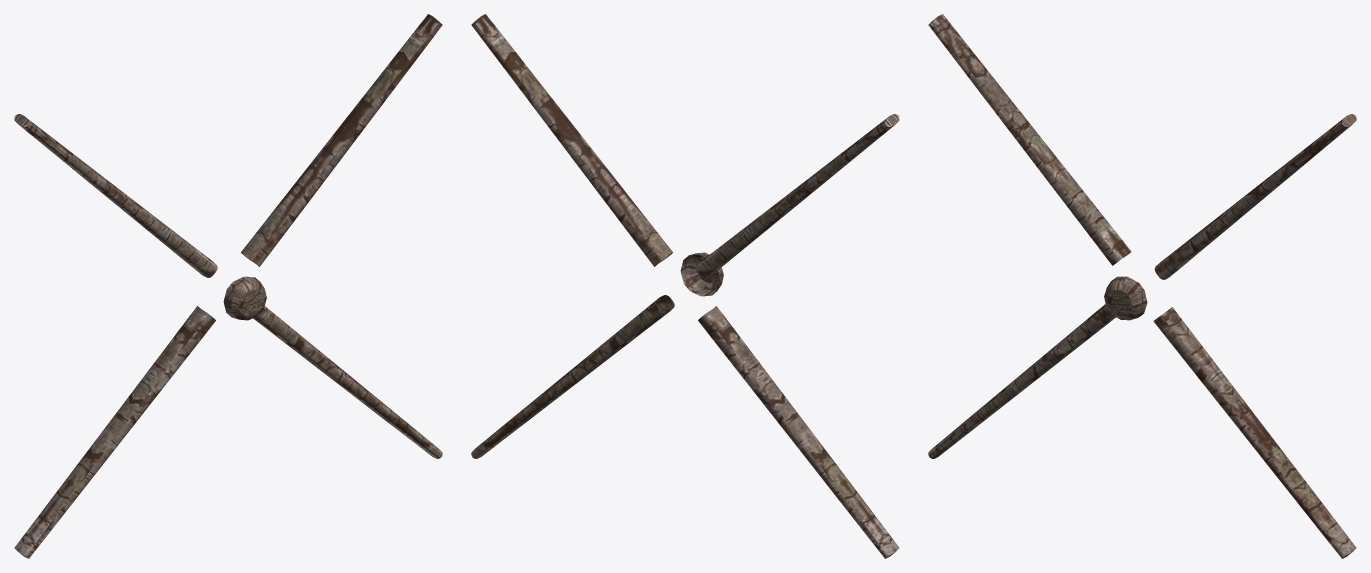
Rendered from Xpyl.FBX.
The picture shows the model from 3 angles, left to right: view 1: azimuth 30°, elevation 25°; view 2: azimuth 150°, elevation 25°; view 3: azimuth 330°, elevation 25°; orthographic projection.
Visible parts, largest first — view 1: X_pyl; view 2: X_pyl; view 3: X_pyl.
Boxes of the visible parts, <box> form: X_pyl: <box>14,14,442,558</box>; X_pyl: <box>471,14,899,558</box>; X_pyl: <box>928,14,1356,558</box>.
Bounding box in the file's own units: 4.81 × 0.7477 × 4.81.
